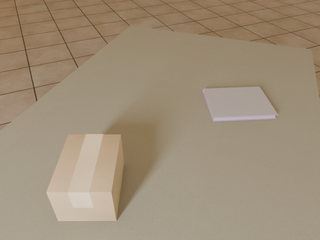book: (203, 87, 278, 121)
box: (47, 134, 124, 221)
